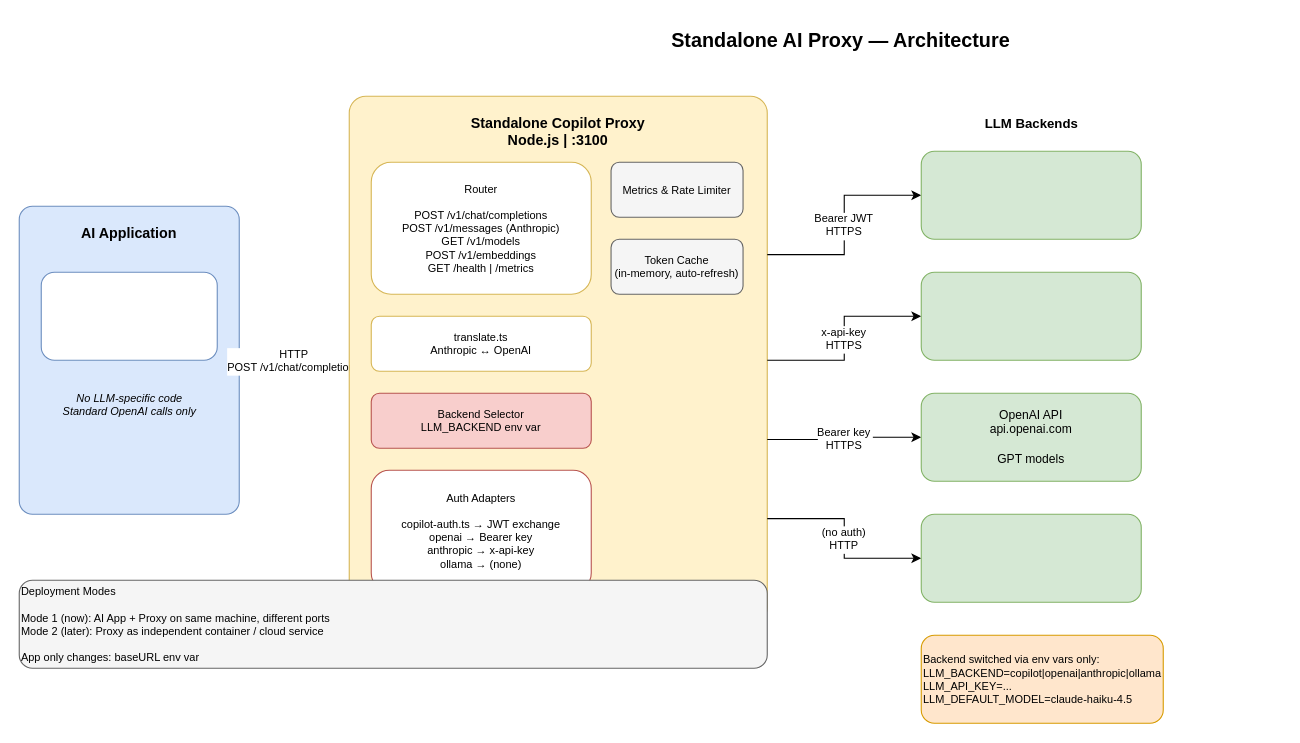
Image size: 1300x743. Some labels were removed from this diagram. The centre of each missing label's shape, as x and y in pixels:
"Anthropic API api.anthropic.com Claude models" belongs at (1030,315).
"GitHub Copilot API api.githubcopilot.com Claude · GPT · Gemini" belongs at (1030,194).
"Ollama (Local LLM) localhost:11434 Any local model" belongs at (1030,557).
"OpenAI SDK baseURL: http://localhost:3100/v1 apiKey: (unused)" belongs at (128,315).
